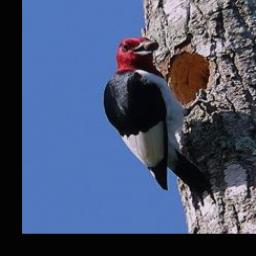Woodpecker: (100, 25, 223, 210)
